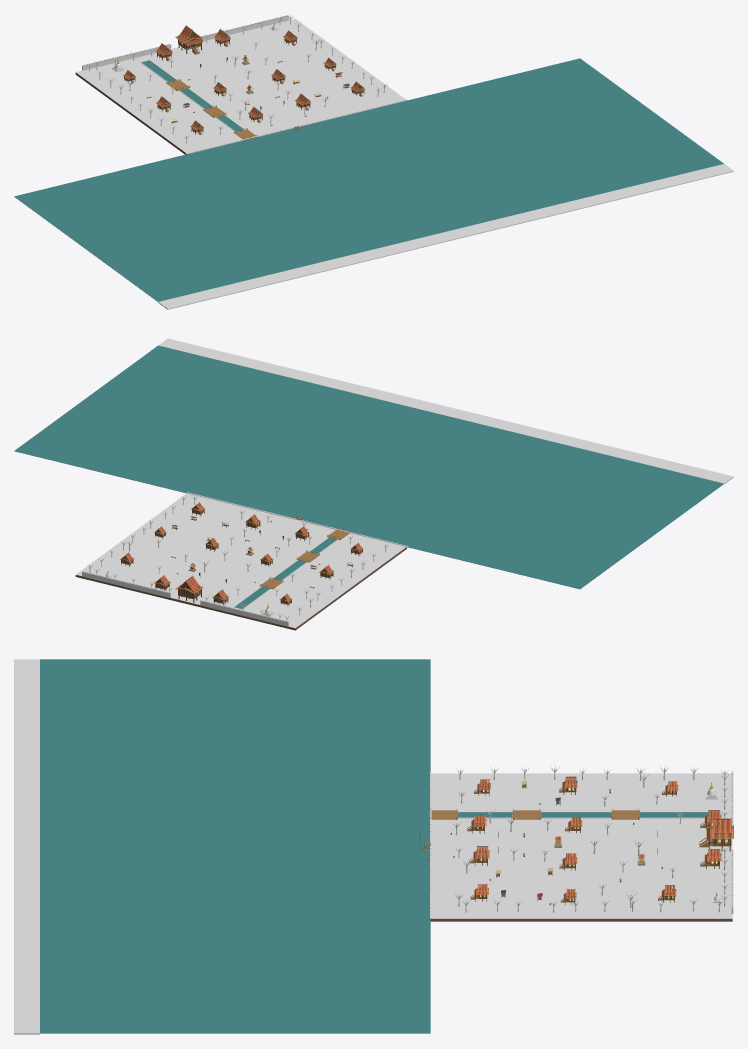
Rendered from ayutthaya.glb.
3 views of the same model, one above another, from view 1: azimuth 30°, elevation 25°; view 2: azimuth 150°, elevation 25°; view 3: azimuth 270°, elevation 25° (orthographic). The views are drawn at different scales.
Parts seen in each view (by area): view 1: River · water, Meadow ground19 · ground19, Distant green bank · canopy_dark, City rampart · plaster, Tree branches · bark19, Garden canal · water, Tree trunks · bark19; view 2: River · water, Meadow ground19 · ground19, Distant green bank · canopy_dark, City rampart · plaster, Capital terrain · earth, Garden canal · water, Tree branches · bark19, Tree trunks · bark19; view 3: River · water, Meadow ground19 · ground19, Distant green bank · canopy_dark, Garden canal · water, Tree branches · bark19, Capital terrain · earth, Tree trunks · bark19, Canal bridge · wood_light, Canal banks · stone19.
Part boxes in pixels (box(x1,y1,x2,y2)): River · water: box(14, 58, 723, 301); Meadow ground19 · ground19: box(76, 18, 405, 152); Distant green bank · canopy_dark: box(158, 164, 733, 309); City rampart · plaster: box(82, 15, 288, 70); Tree branches · bark19: box(87, 15, 387, 138); Garden canal · water: box(141, 60, 243, 131); Tree trunks · bark19: box(89, 16, 384, 143); River · water: box(14, 345, 723, 589); Meadow ground19 · ground19: box(76, 493, 406, 628); Distant green bank · canopy_dark: box(158, 338, 733, 484); City rampart · plaster: box(82, 571, 288, 626); Capital terrain · earth: box(75, 547, 406, 630); Garden canal · water: box(234, 537, 337, 609); Tree branches · bark19: box(87, 494, 388, 618); Tree trunks · bark19: box(89, 496, 386, 621); River · water: box(40, 659, 430, 1033); Meadow ground19 · ground19: box(430, 773, 732, 918); Distant green bank · canopy_dark: box(14, 659, 39, 1034); Garden canal · water: box(458, 812, 713, 817); Tree branches · bark19: box(452, 765, 729, 906); Capital terrain · earth: box(430, 919, 732, 921); Tree trunks · bark19: box(455, 768, 725, 912); Canal bridge · wood_light: box(429, 810, 639, 819); Canal banks · stone19: box(459, 811, 707, 818).
Size of the model in its own units: 340 by 13.76 by 277.
